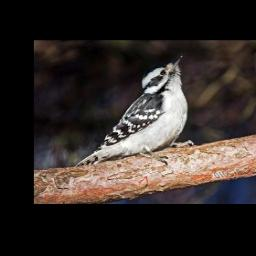Woodpecker: (76, 52, 198, 166)
